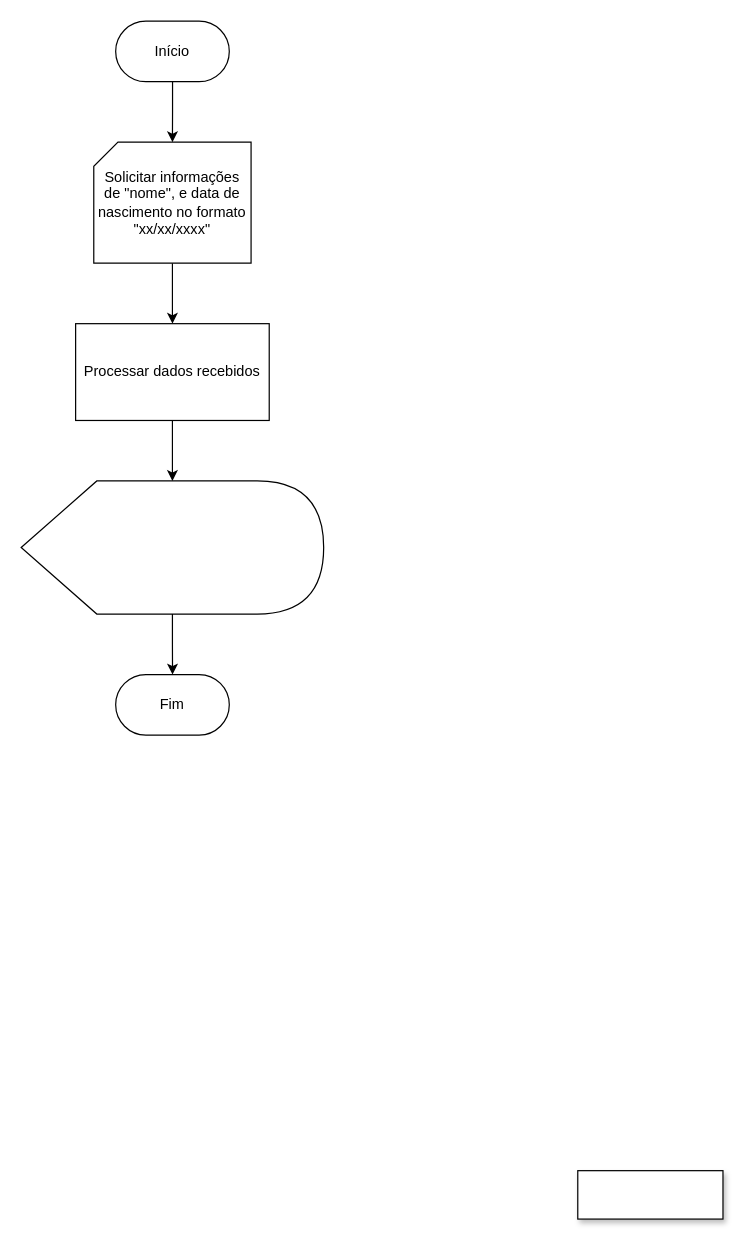
Some shapes in this 751 by 1249 pixel diagram are drawn without their labels. Here are the shapes that lost their labels. From the top down, the centre of each, then its label:
the point at 172,547: Programa imprime na tela "Seu nome é (nome), e você nasceu em (xx/xx/xxxx)"
the point at 651,1196: Create work order backorder
